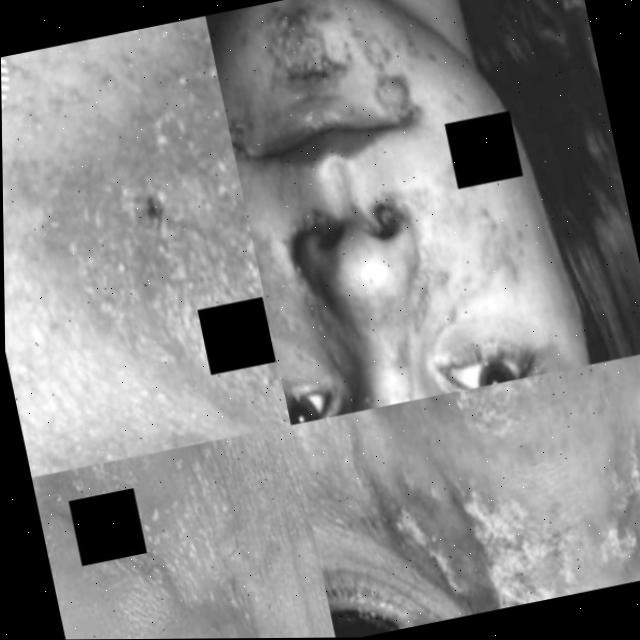lupus-detected: (0, 14, 292, 477), (298, 81, 621, 411), (295, 350, 640, 638), (205, 0, 500, 246), (30, 424, 319, 607), (235, 133, 414, 424)
